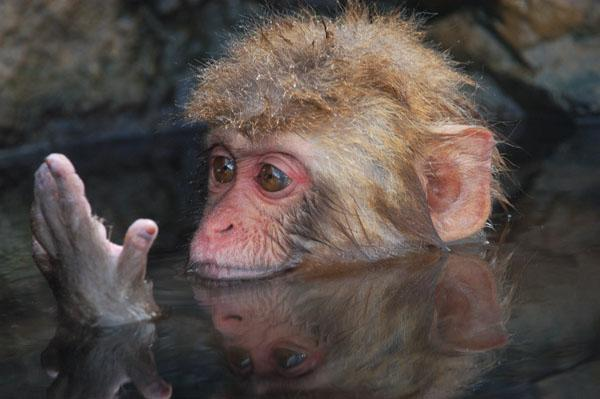monkey: (187, 17, 529, 282)
